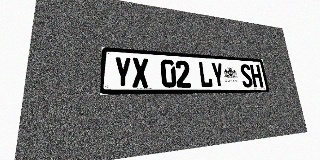0: (160, 59, 177, 88)
2: (175, 60, 191, 88)
H: (250, 64, 263, 87)
L: (198, 61, 213, 88)
S: (239, 64, 253, 87)
X: (132, 57, 149, 88)
Y: (114, 56, 132, 88), (210, 62, 225, 88)
